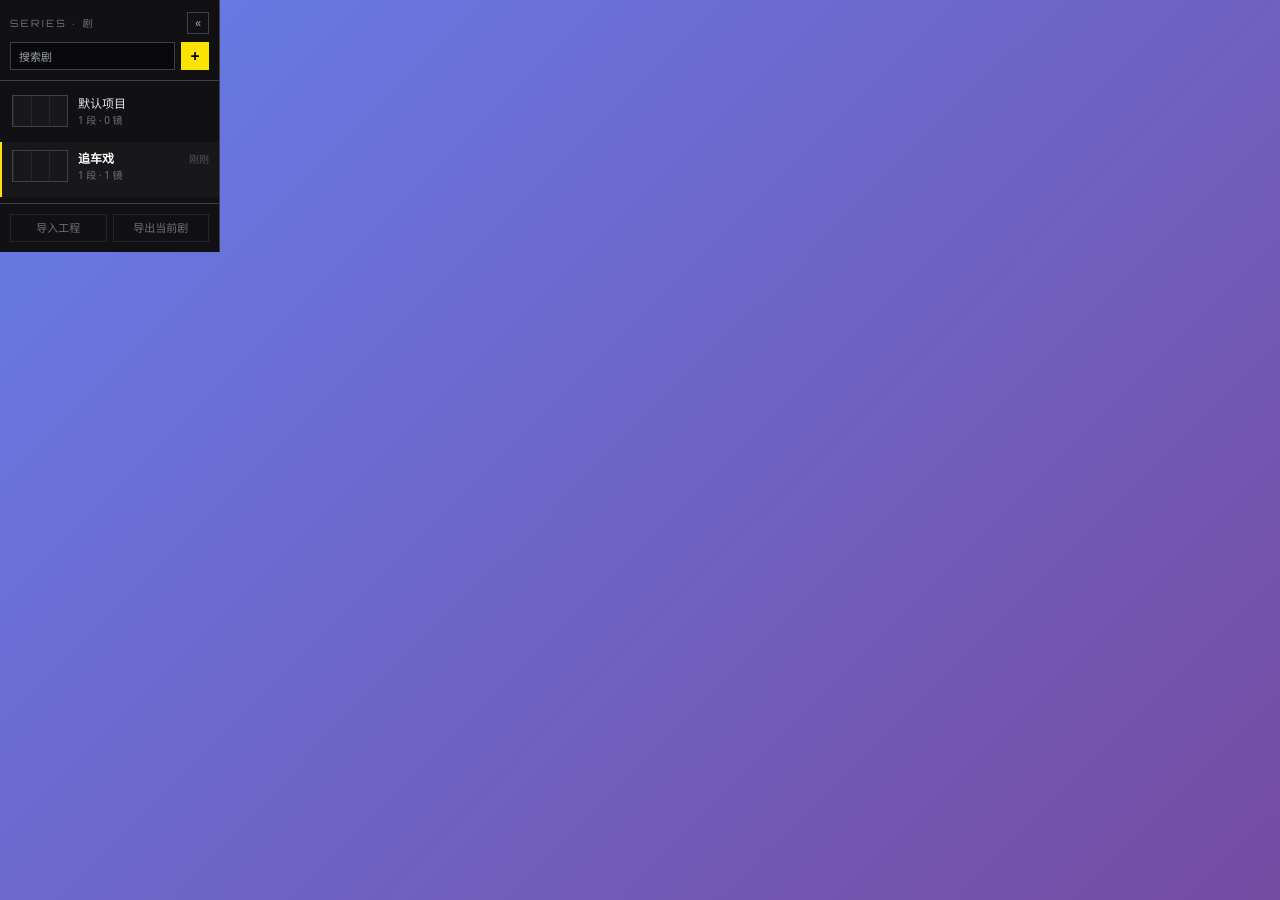
ProjectRail 右键菜单 › Fork:创建「副本」整部剧(含分段和卡片),并提示
Right-click the button with aria-label "切换到剧 追车戏" at (110, 170), box 2,142 -> 219,197
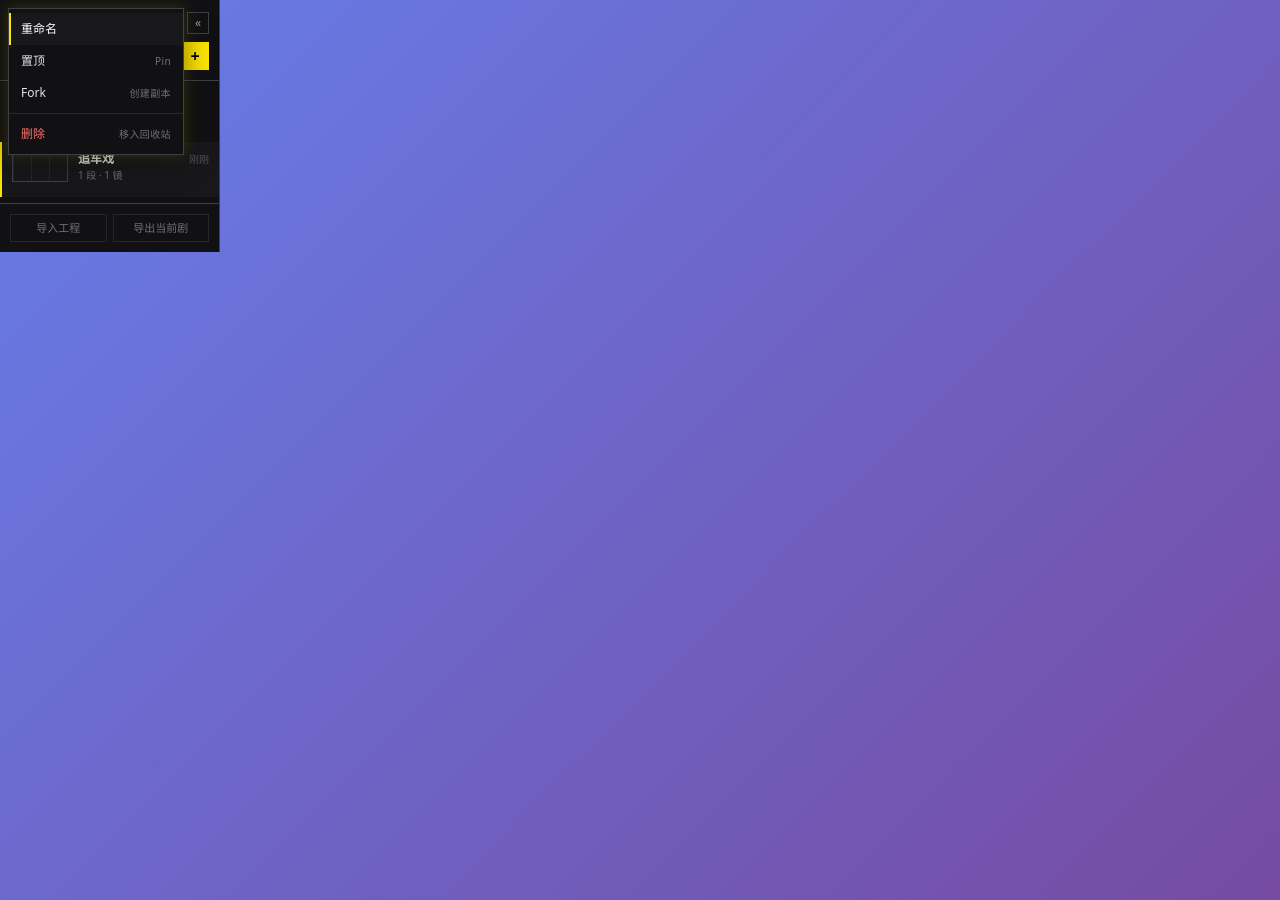
Click the menu item "Fork 创建副本" at (96, 93), box 9,77 -> 183,109
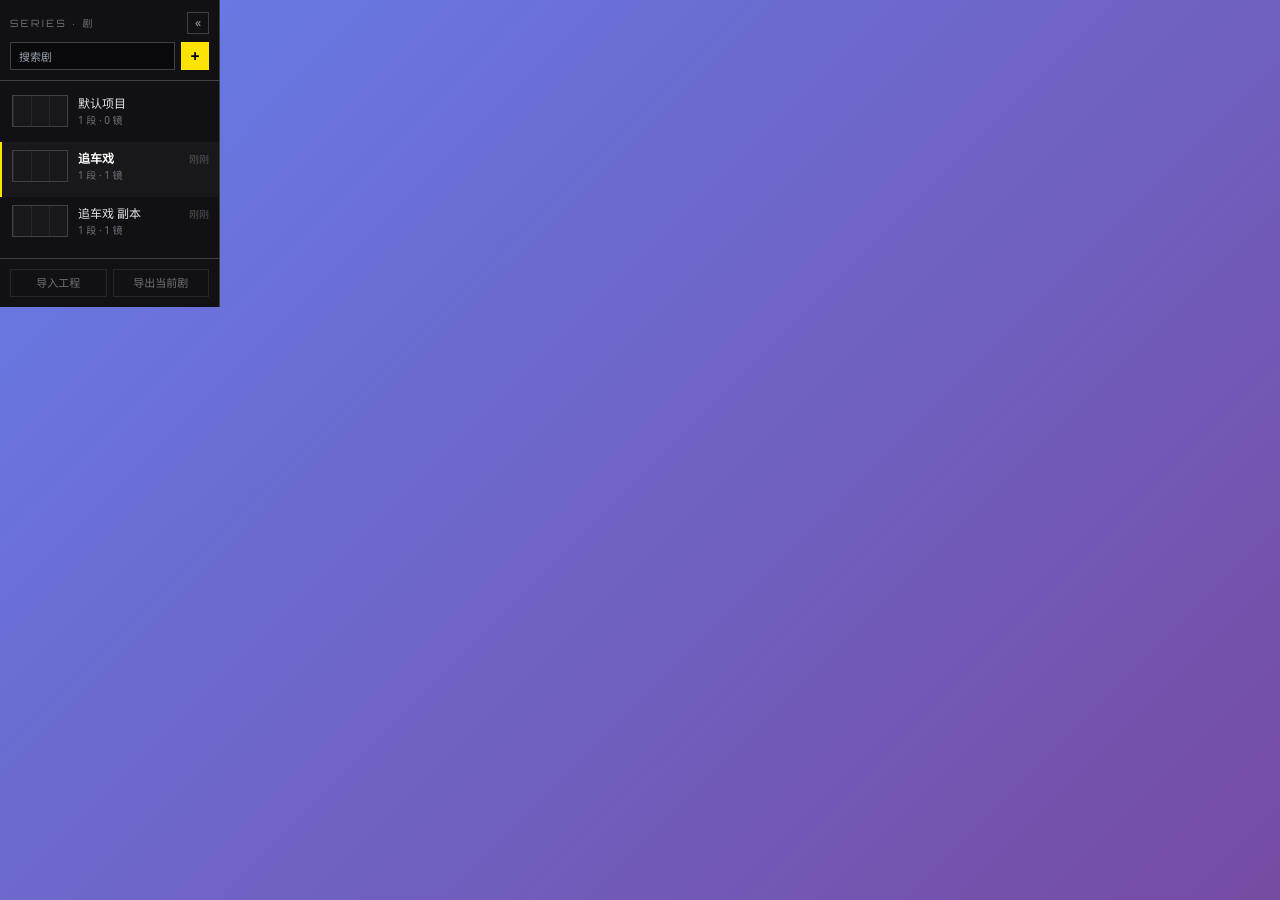
Expected: the text "追车戏 副本" is shown, 78,205 -> 141,223
